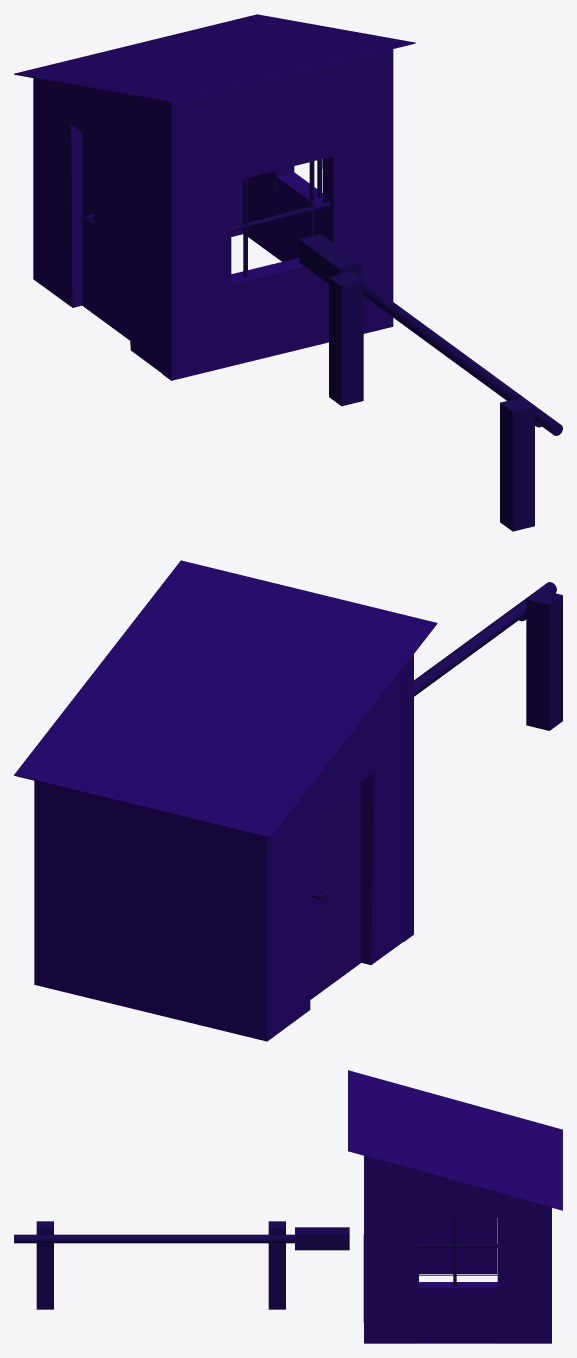
Rendered from Waerterhaus.fbx.
3 renders of one model, top to bottom at view 1: azimuth 30°, elevation 25°; view 2: azimuth 150°, elevation 25°; view 3: azimuth 270°, elevation 25°, orthographic. The views are drawn at different scales.
Visible parts, largest first — view 1: pCube16, pCube6, pCube5, pCube7, pCube9, pCube8, pCylinder5, pCube13, pCube12, pCube2, pCube10; view 2: pCube5, pCube2, pCube6, pCube7, pCube9, pCube16, pCylinder5; view 3: pCube5, pCube12, pCube13, pCube7, pCylinder5, pCube16, pCube9, pCube8, pCube10, pCube2.
Boxes of the visible parts, x1,y1,x2,y2 form: pCube16: [162, 49, 393, 380]; pCube6: [39, 79, 161, 372]; pCube5: [14, 14, 415, 102]; pCube7: [82, 133, 130, 340]; pCube9: [500, 397, 541, 531]; pCube8: [329, 272, 363, 406]; pCylinder5: [352, 272, 562, 435]; pCube13: [276, 172, 322, 261]; pCube12: [248, 166, 294, 261]; pCube2: [33, 78, 243, 283]; pCube10: [299, 234, 361, 283]; pCube5: [14, 560, 437, 838]; pCube2: [34, 781, 273, 1041]; pCube6: [274, 667, 403, 1036]; pCube7: [310, 782, 361, 999]; pCube9: [519, 589, 562, 730]; pCube16: [403, 654, 413, 941]; pCylinder5: [414, 582, 556, 696]; pCube5: [348, 1070, 562, 1210]; pCube12: [377, 1159, 543, 1343]; pCube13: [419, 1282, 497, 1342]; pCube7: [419, 1218, 497, 1274]; pCylinder5: [14, 1234, 294, 1243]; pCube16: [363, 1156, 376, 1343]; pCube9: [36, 1221, 53, 1309]; pCube8: [268, 1221, 285, 1309]; pCube10: [295, 1227, 349, 1250]; pCube2: [543, 1205, 551, 1343].
Bounding box in the file's own units: 11 × 12.53 × 31.71.
